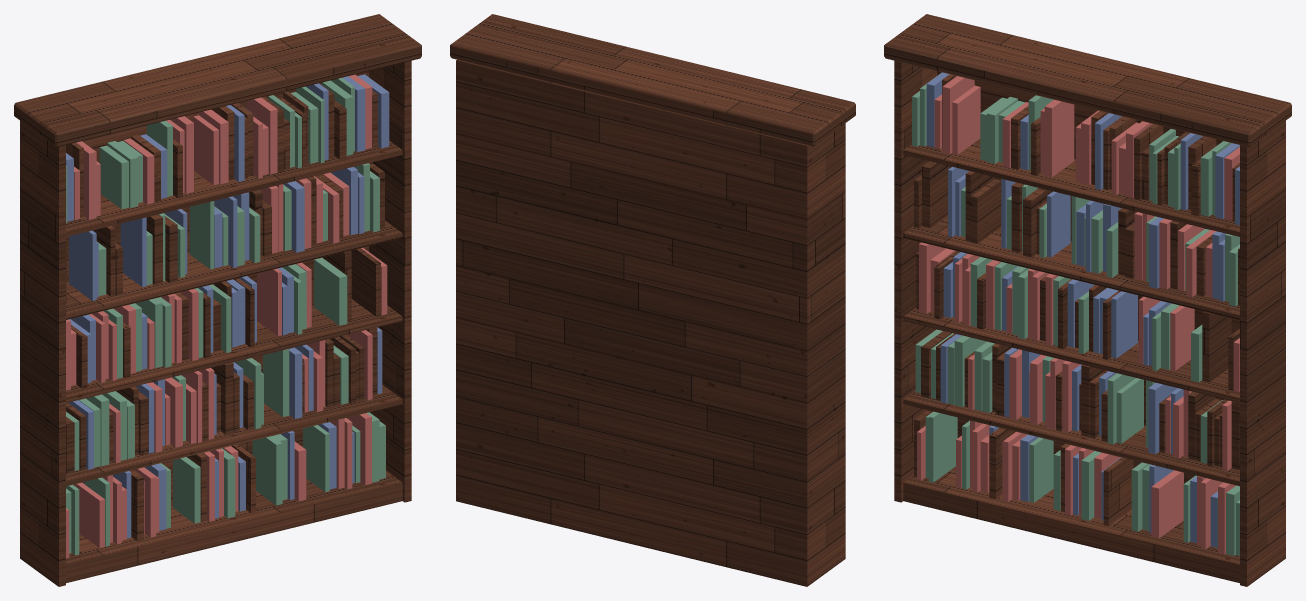
Rendered from bookcase.glb.
3 views of the same model, side by side, from view 1: azimuth 30°, elevation 25°; view 2: azimuth 150°, elevation 25°; view 3: azimuth 330°, elevation 25° (orthographic).
Parts seen in each view (by area): view 1: bookcase_dkwood, bookcase_book_g, bookcase_book_r, bookcase_book_b; view 2: bookcase_dkwood; view 3: bookcase_dkwood, bookcase_book_r, bookcase_book_g, bookcase_book_b.
Part boxes in pixels (<box>): bookcase_dkwood: <box>14,14,421,586</box>; bookcase_book_g: <box>66,77,385,555</box>; bookcase_book_r: <box>66,74,387,558</box>; bookcase_book_b: <box>66,74,389,538</box>; bookcase_dkwood: <box>450,14,855,586</box>; bookcase_dkwood: <box>884,14,1291,586</box>; bookcase_book_r: <box>917,76,1239,554</box>; bookcase_book_g: <box>912,72,1239,555</box>; bookcase_book_b: <box>926,72,1239,547</box>.
Bounding box in the file's own units: 2.08 × 2.48 × 0.42.
4 materials, 1 textured.
